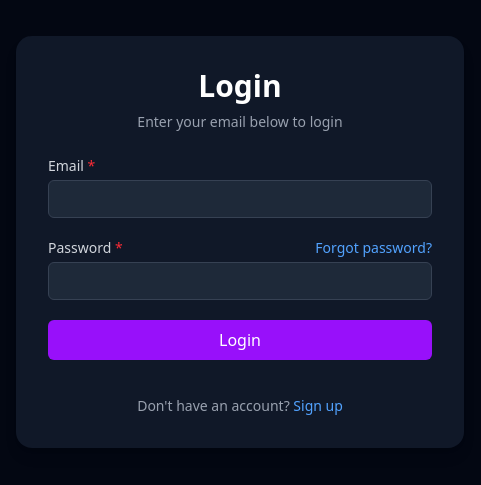
SignIn Component › handles login failure from API (res.success is false)
Type "test@example.com" into the field labelled "Email *".
click(240, 199); type("test@example.com")  # box [48,180,432,218]
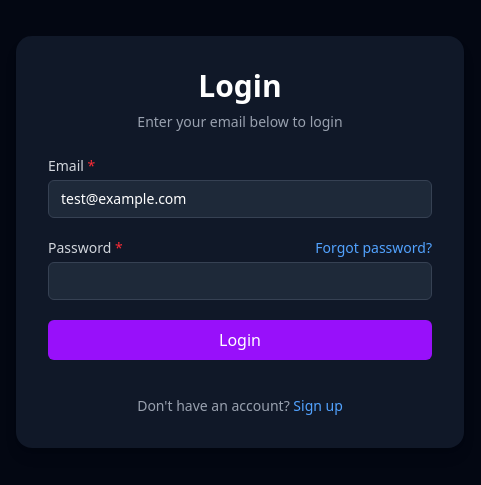
Type "wrongpassword" into the password field labelled "Password *".
click(240, 281); type("wrongpassword")  # box [48,262,432,300]
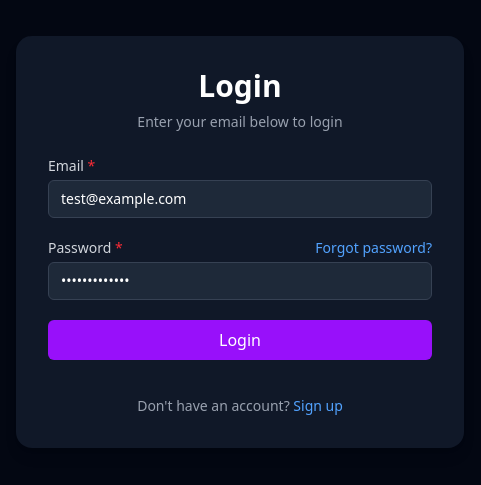
Click the button "Login".
click(240, 340)  # box [48,320,432,360]
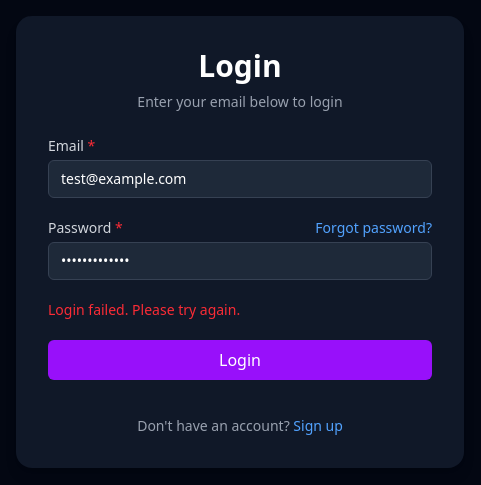
Expected: the text "Login failed. Please try again." is shown, [48,300,240,319]
